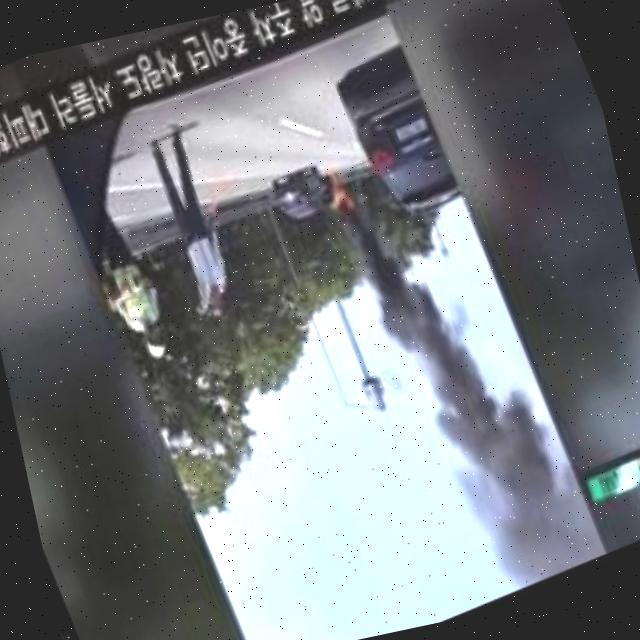fire: (322, 183, 353, 217)
